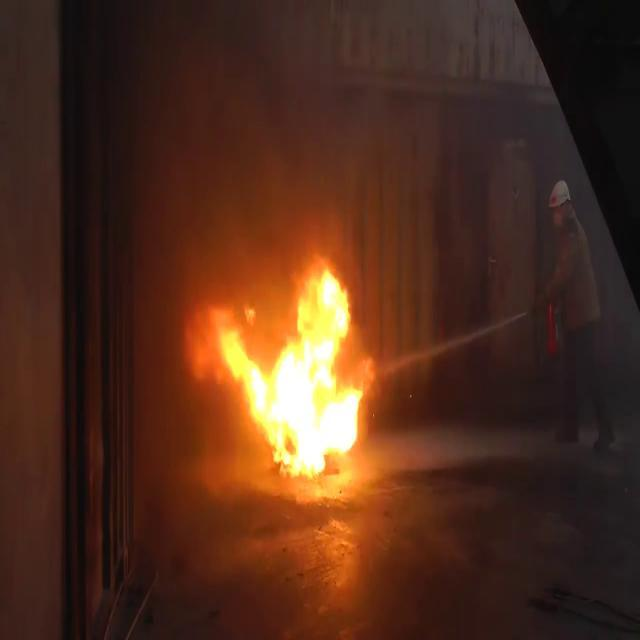Fire: (206, 248, 374, 484)
